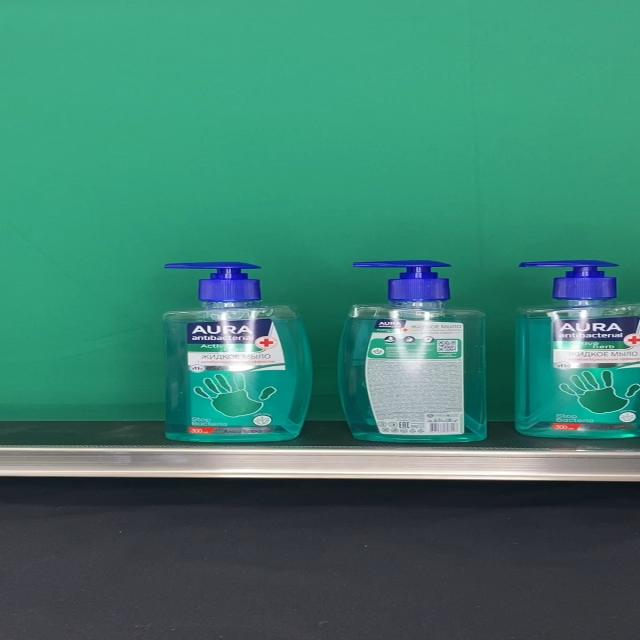Bottle: (161, 261, 313, 441), (338, 260, 486, 443), (514, 259, 640, 438)
Cap: (353, 260, 451, 302), (518, 260, 619, 300), (165, 261, 262, 301)
